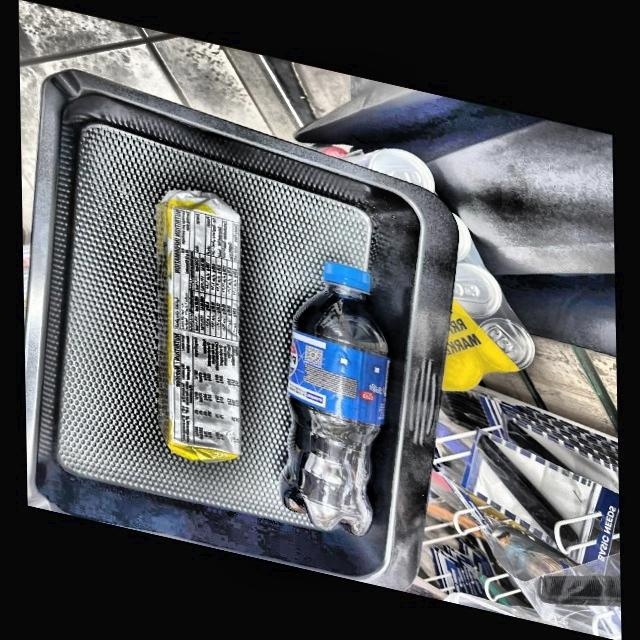lemon puff: (155, 186, 251, 470)
pepsi-bottle: (289, 254, 382, 544)
